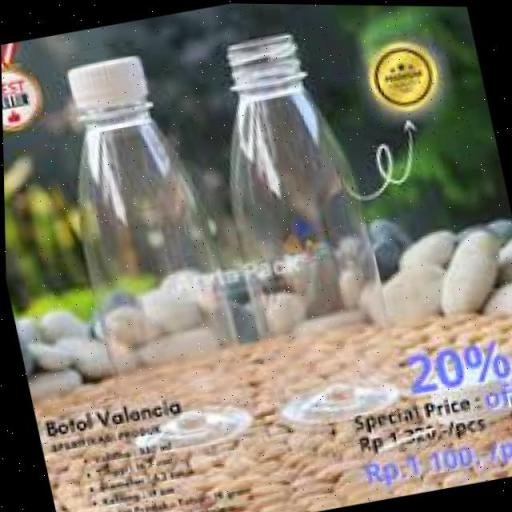plastic: (42, 37, 274, 474), (191, 24, 406, 438)
